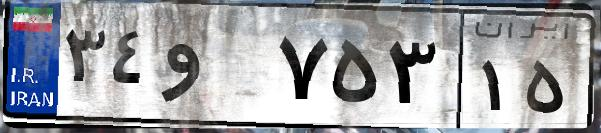1: (475, 38, 525, 113)
3: (385, 28, 445, 110), (57, 26, 110, 100)
4: (110, 28, 158, 98)
5: (330, 28, 385, 110), (525, 38, 570, 115)
7: (270, 28, 330, 110)
و: (158, 20, 270, 120)
